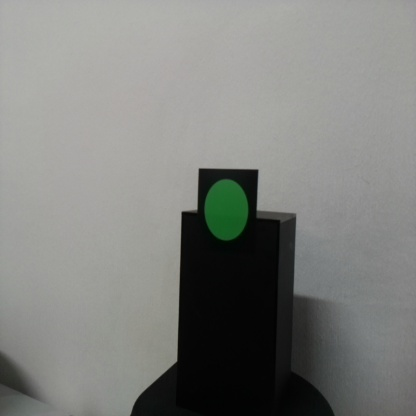id_5: (199, 168, 258, 260)
